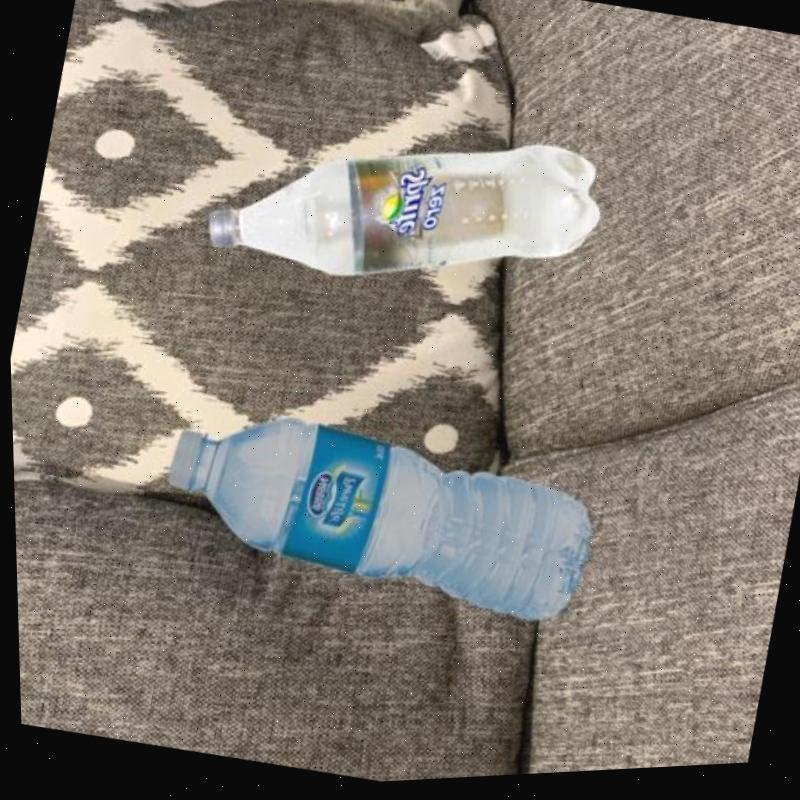botella: (149, 388, 603, 655), (196, 75, 620, 340)
